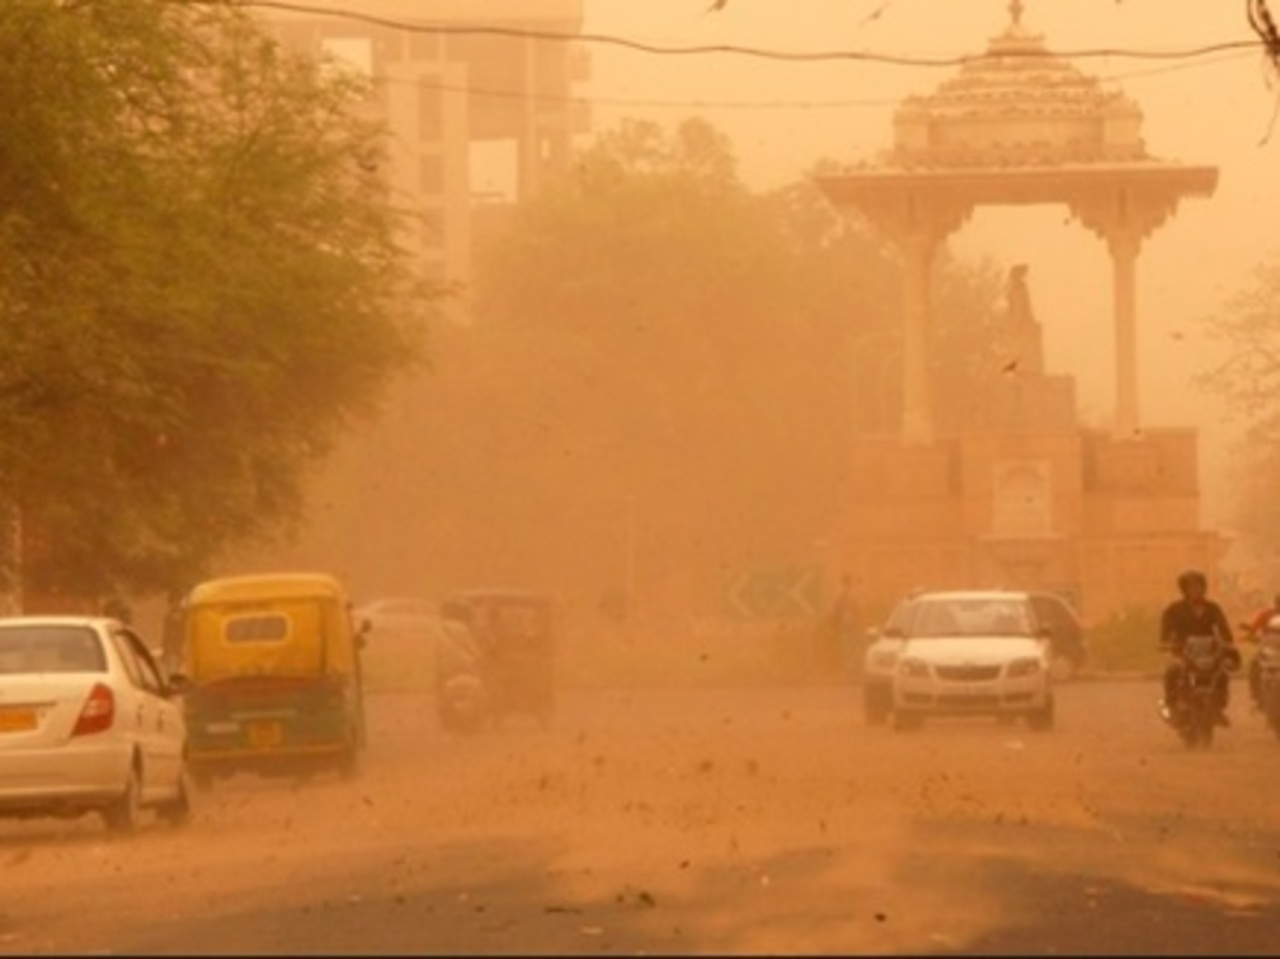car: (0, 615, 195, 836), (175, 570, 364, 785), (901, 593, 1052, 737), (436, 590, 565, 740), (853, 591, 914, 721), (1035, 583, 1089, 692), (351, 591, 438, 631)
motorcycle: (1157, 634, 1239, 751), (438, 666, 486, 753)
person: (1160, 574, 1237, 727), (431, 599, 486, 721)
